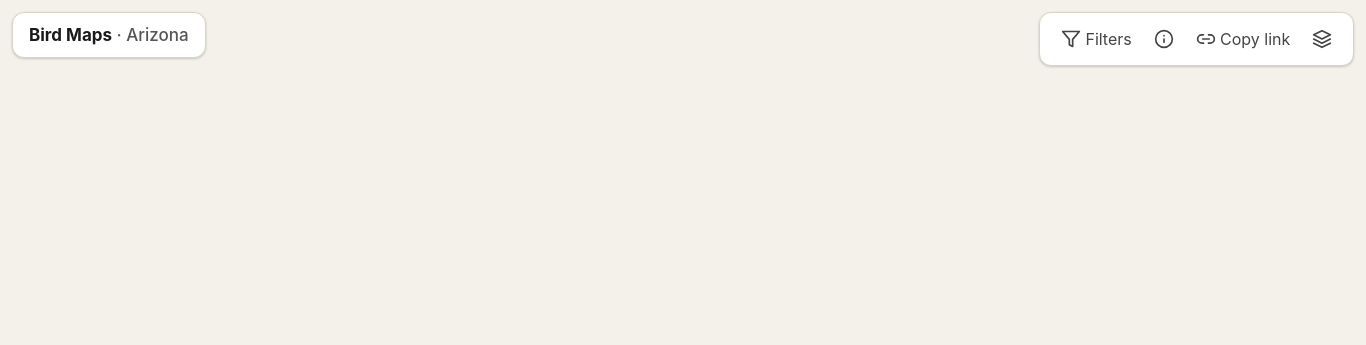
Test: <AppHeader> › clicking the theme icon opens the popover with 5 options, the active one checked
Click the button named "Map theme:": point(1322, 39) [1303, 21, 1341, 57]
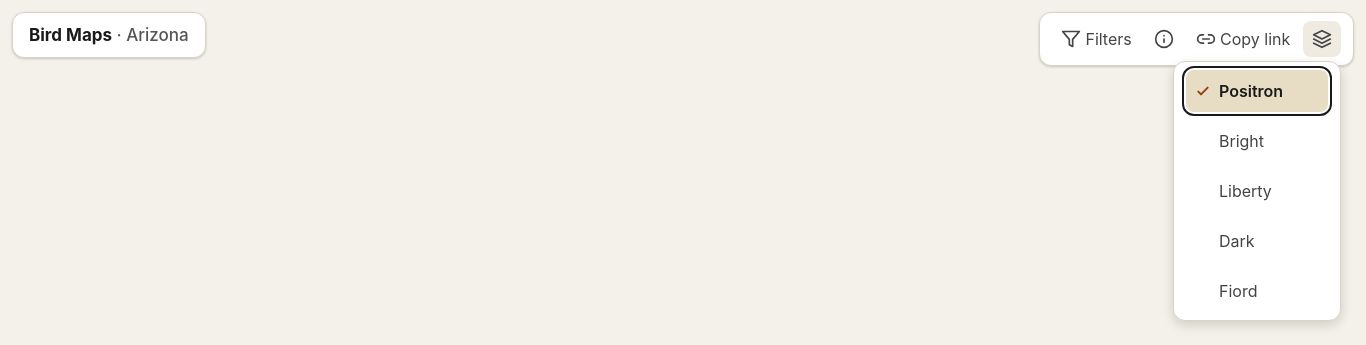
Expected: the number of radio buttons is 5, [1186, 70, 1328, 112]; [1186, 120, 1328, 162]; [1186, 170, 1328, 212]; [1186, 220, 1328, 262]; [1186, 270, 1328, 312]
